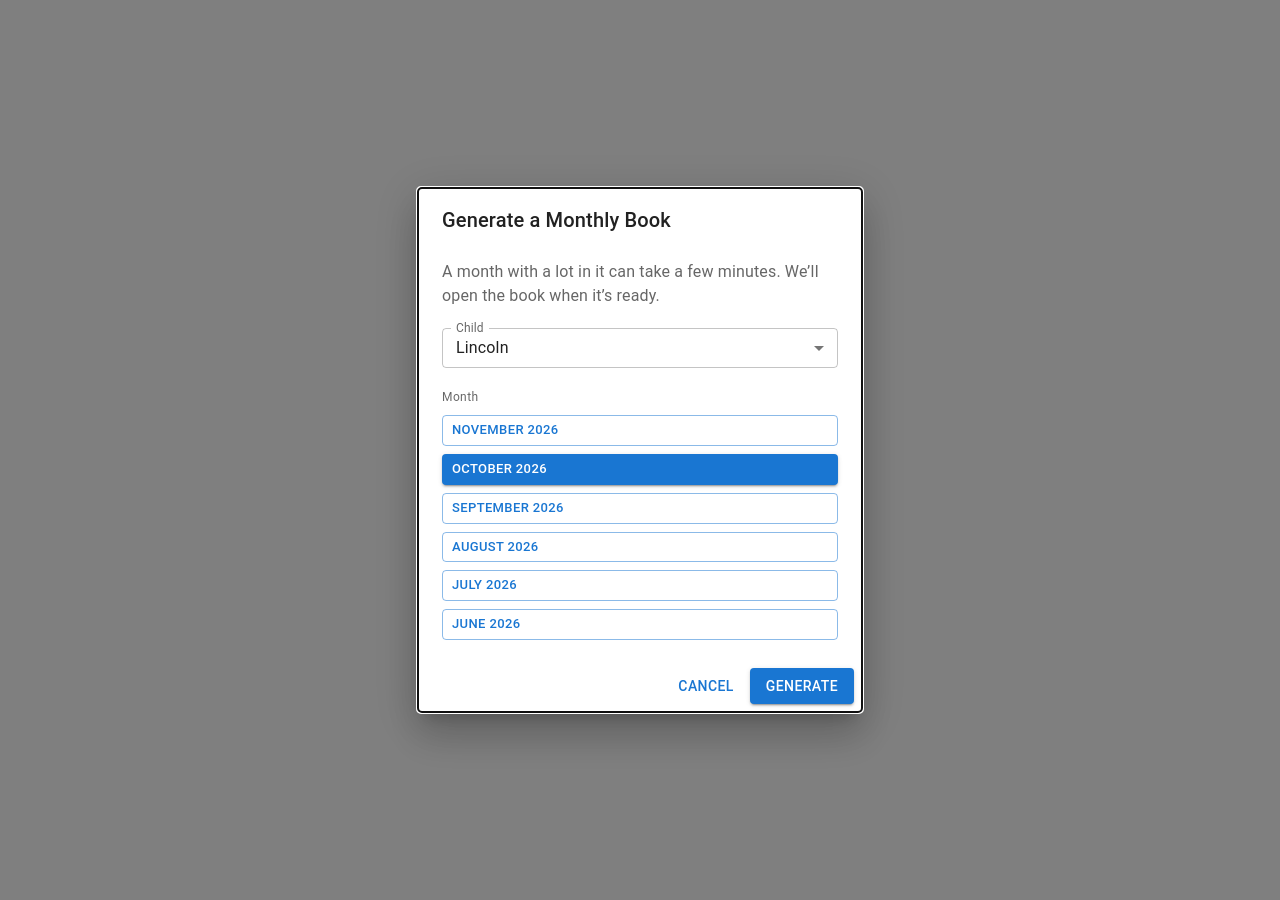
Scenario: GenerateNowDialog — the client waits as long as the server does › a client-side deadline is waiting, not failing — and a later doc resolves it
Click the button "Generate" at (802, 686), box [750,668,854,704]
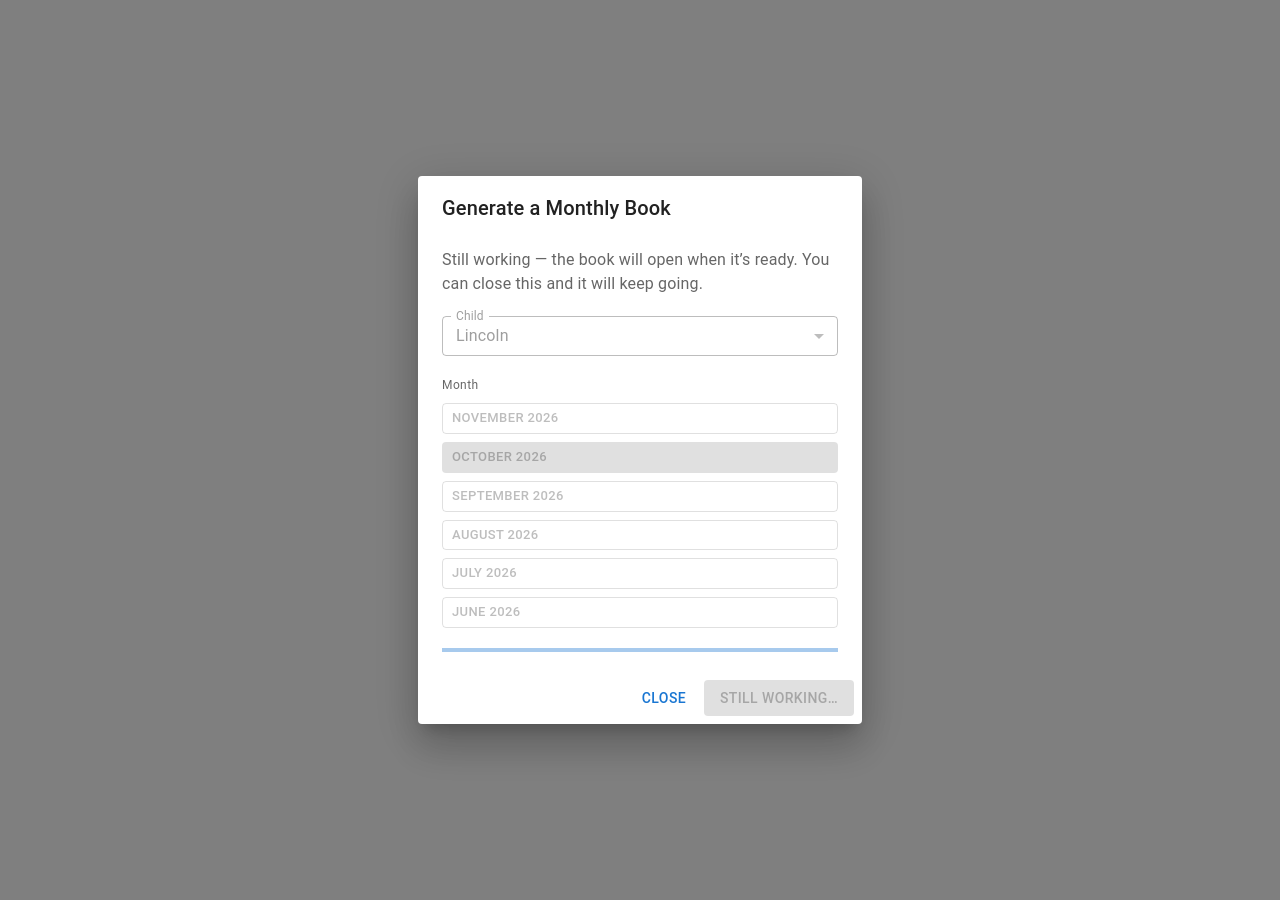
Result: the text "Still working — the book will open" is shown at [442,250,830,292]
